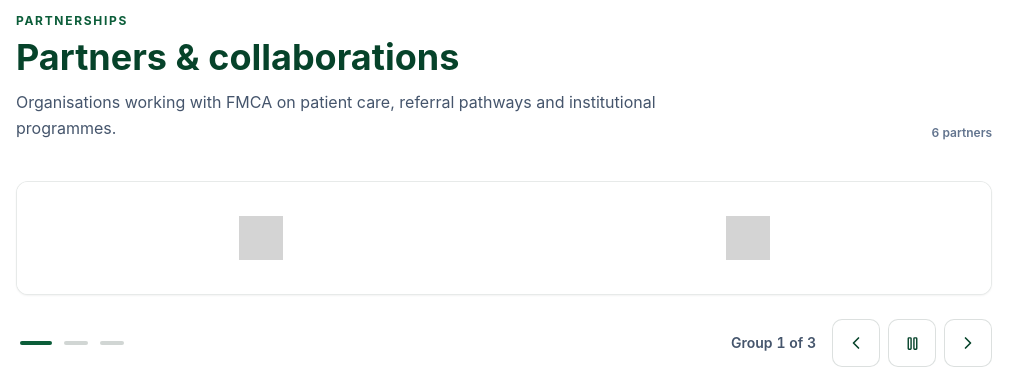
Scenario: partners home section › wraps around from the last group back to the first and vice versa
Click the button named "Show group 3 of 3": (112, 343) x1=96 y1=319 x2=128 y2=367
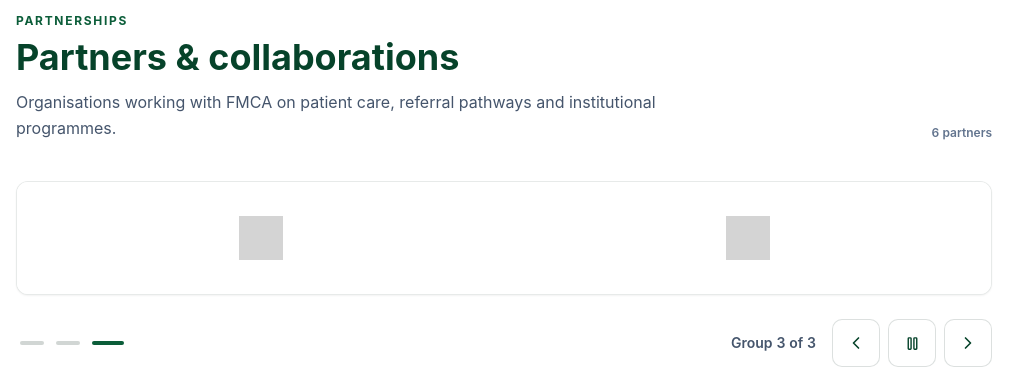
Click the button named "Next partner group": (968, 343) x1=944 y1=319 x2=992 y2=367
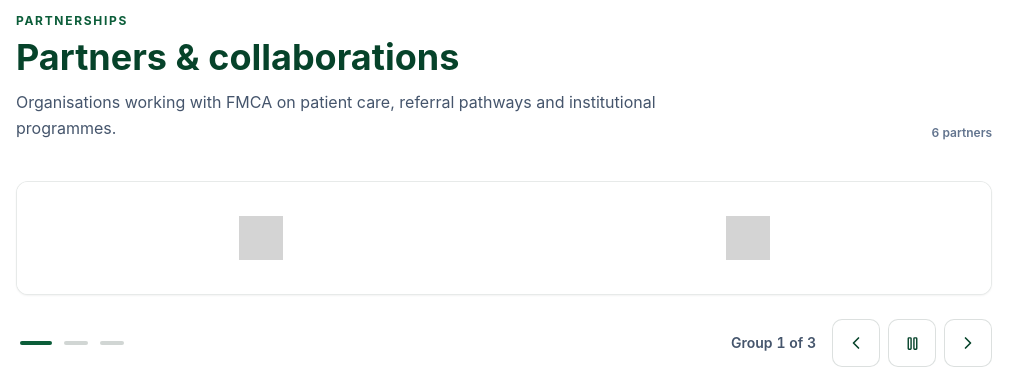
Expected: the text "Group 1 of 3" is shown, x1=731 y1=333 x2=816 y2=353
Click the button named "Previous partner group": (856, 343) x1=832 y1=319 x2=880 y2=367
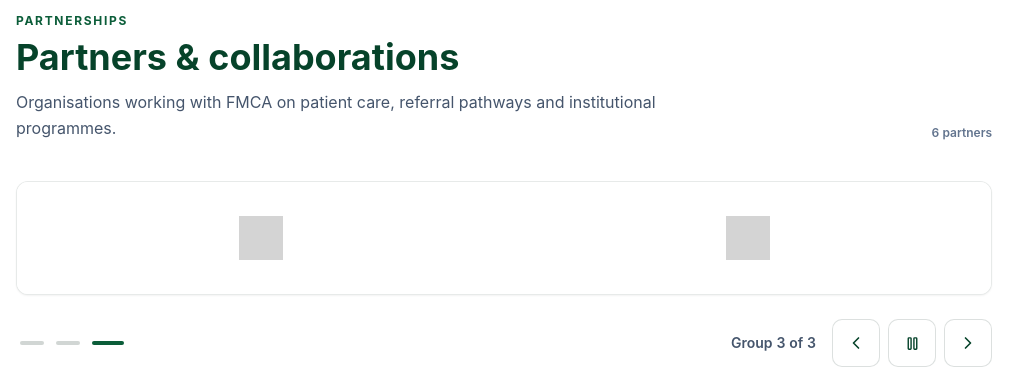
Expected: the text "Group 3 of 3" is shown, x1=731 y1=333 x2=816 y2=353
